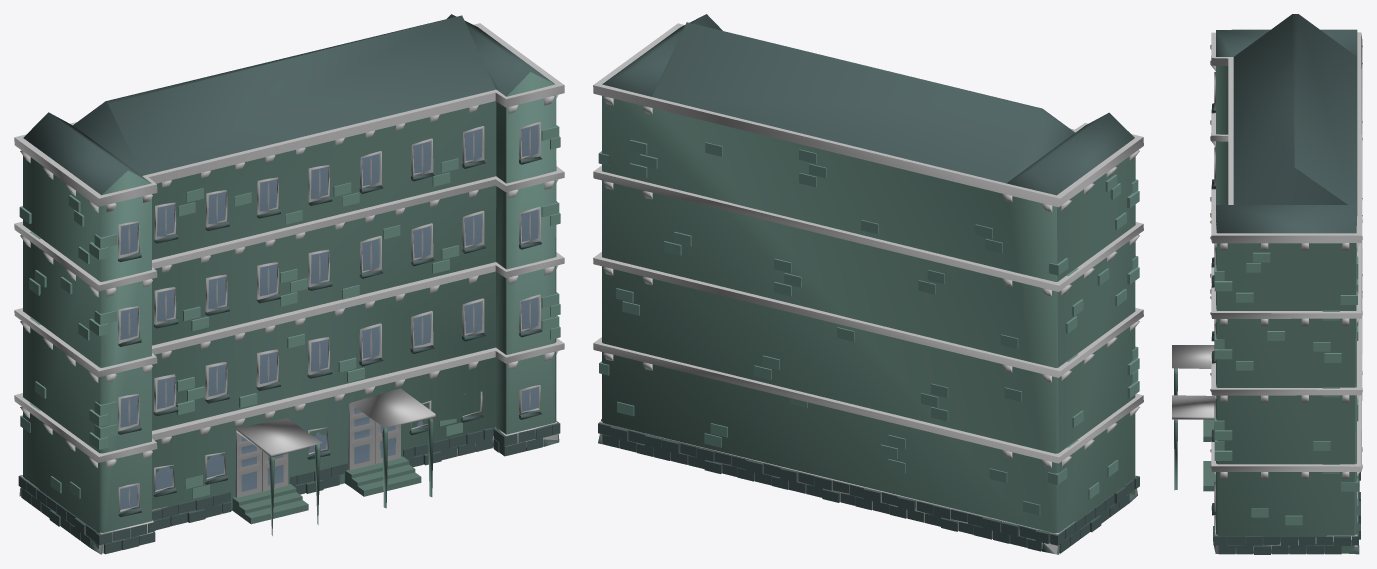
Rendered from skyscraper-c.low.glb.
The picture shows the model from 3 angles, left to right: view 1: azimuth 30°, elevation 25°; view 2: azimuth 150°, elevation 25°; view 3: azimuth 270°, elevation 25°; orthographic projection. The views are drawn at different scales.
Visible parts, largest first — view 1: 4Story_Wide_2Doors_Roof_Mat; view 2: 4Story_Wide_2Doors_Roof_Mat; view 3: 4Story_Wide_2Doors_Roof_Mat.
Part boxes in pixels (bbox=[...]): 4Story_Wide_2Doors_Roof_Mat: bbox=[14, 14, 564, 554]; 4Story_Wide_2Doors_Roof_Mat: bbox=[593, 14, 1143, 554]; 4Story_Wide_2Doors_Roof_Mat: bbox=[1172, 14, 1362, 554].
Size of the model in its own units: 6.84 by 5.7 by 2.7.
